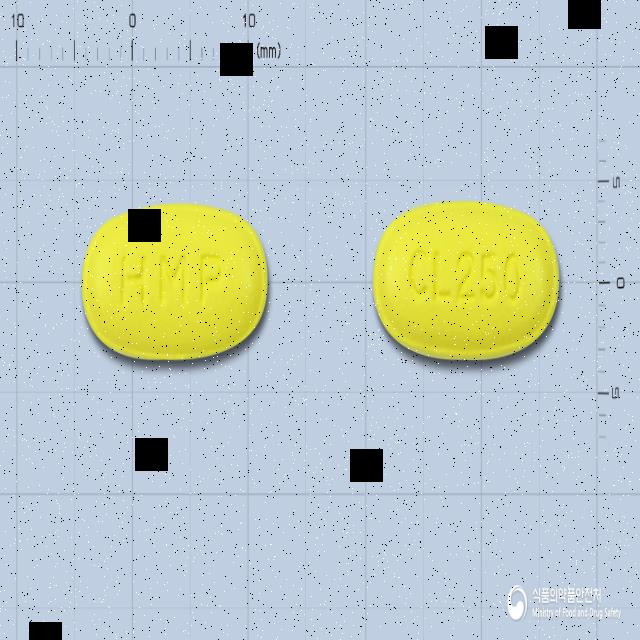Clari - 500mg: (372, 197, 564, 366), (80, 200, 272, 364)
